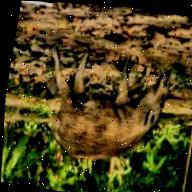boar: (32, 40, 179, 175)
